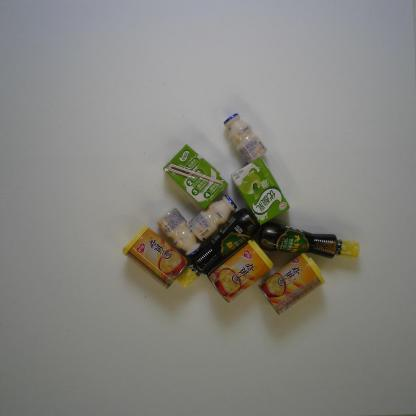Canned Food: (121, 224, 188, 291), (206, 238, 274, 304), (258, 252, 326, 316)
Milk: (162, 143, 229, 211), (230, 156, 291, 227), (187, 194, 238, 242), (222, 112, 268, 164), (156, 207, 203, 257)
Seasoner: (175, 208, 261, 290), (256, 220, 361, 260)
